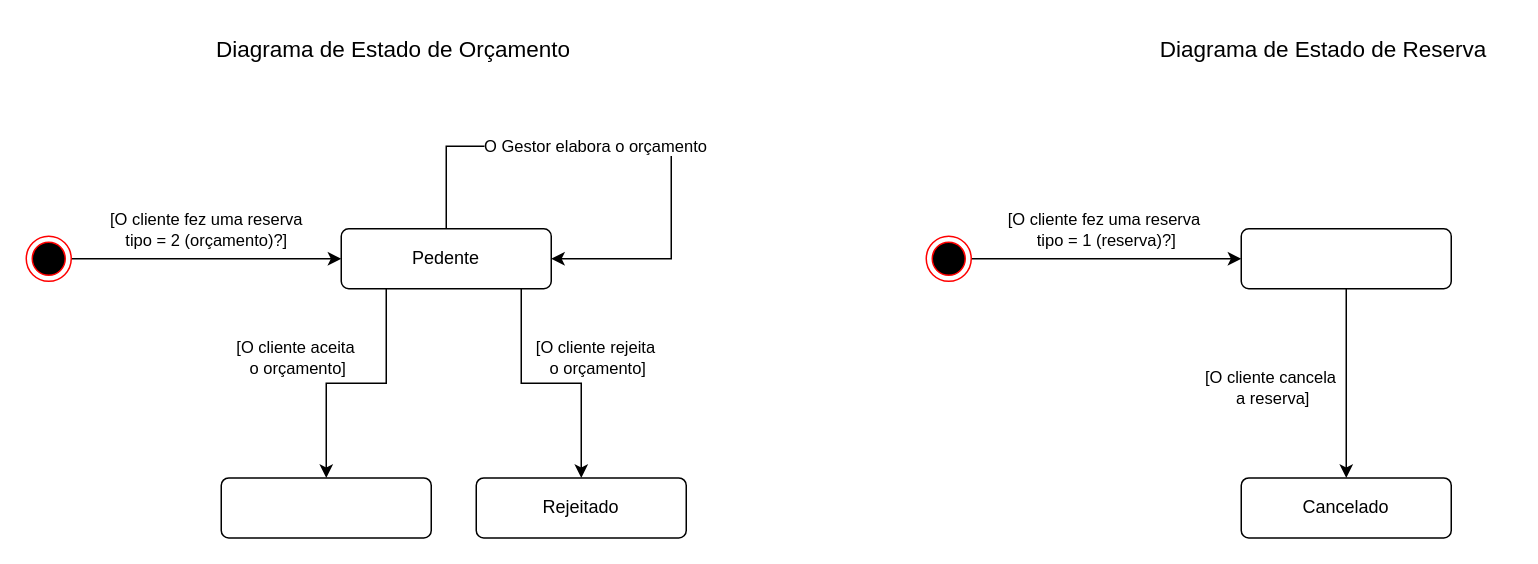
Image size: 1538x564. Some labels were removed from this diagram. The shapes that lost their labels are listed below. From the top down, each one's centre as x and y in pixels, then its label:
the point at 1345,258: Reservado
the point at 325,507: Aceite
